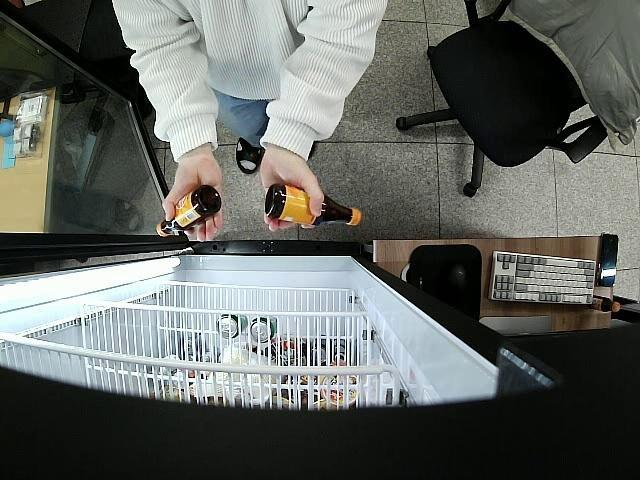17_vita500: (266, 180, 361, 227), (156, 184, 222, 237)
